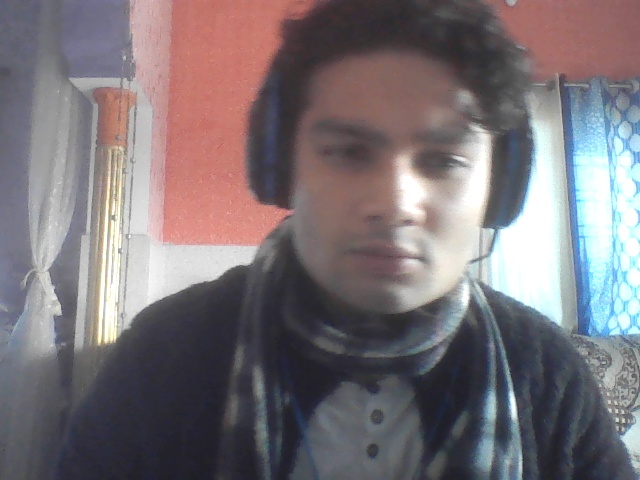real: (259, 0, 524, 375)
